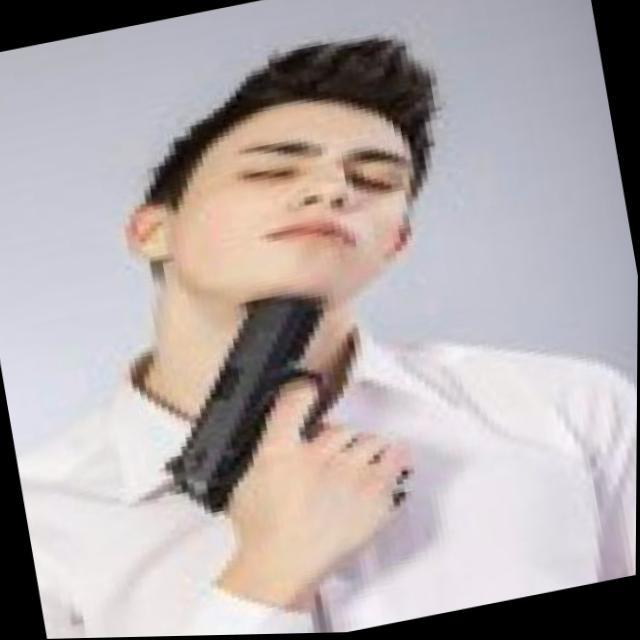weapon: (124, 266, 436, 570)
